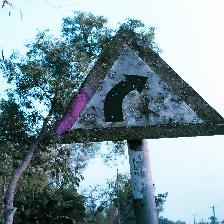Right-turn: (57, 26, 222, 140)
